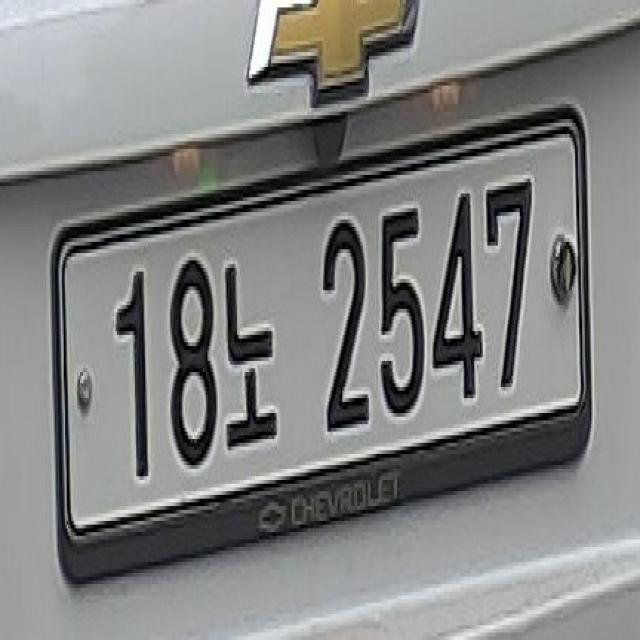1: (110, 249, 154, 506)
2: (320, 212, 372, 443)
4: (430, 175, 484, 409)
5: (376, 197, 427, 424)
7: (484, 160, 540, 402)
8: (163, 246, 221, 484)
license_plate: (48, 104, 592, 596)
no: (222, 235, 286, 465)
